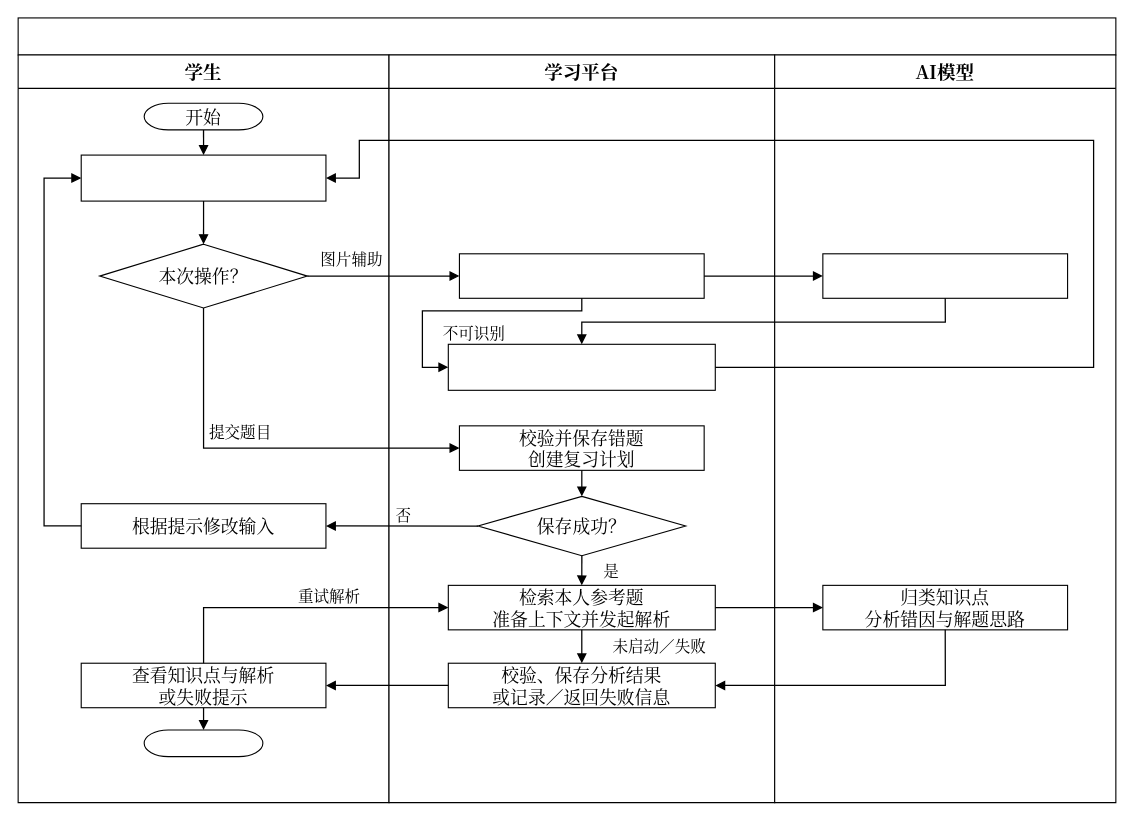
This 1134x821 diagram has some shape labels left out. Each missing label, with the centre of its shape:
"图3.1 错题录入与AI分析业务流程图" belongs at point 566,36.
"处理候选并回填 识别失败则提示手录" belongs at point 581,366.
"录入并提交错题 手工填写／图片辅助" belongs at point 203,177.
"校验图片 准备识别请求" belongs at point 581,275.
"结束" belongs at point 203,743.
"识别图片内容 返回候选题目信息" belongs at point 945,275.
